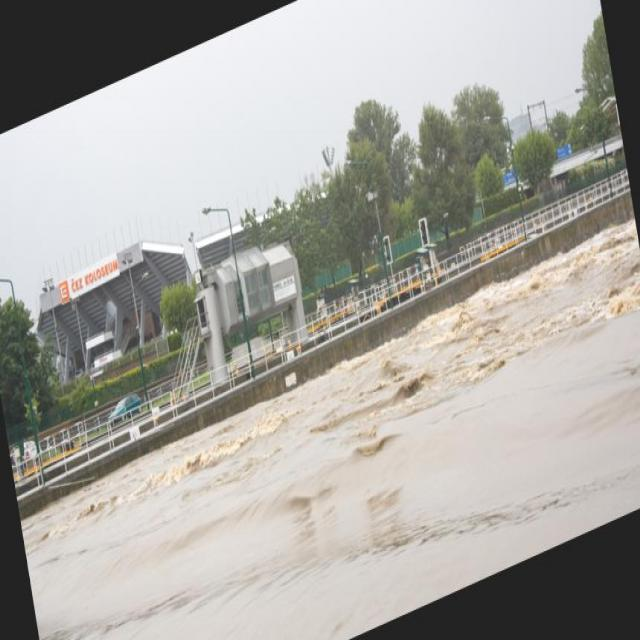flood: (18, 215, 639, 639)
